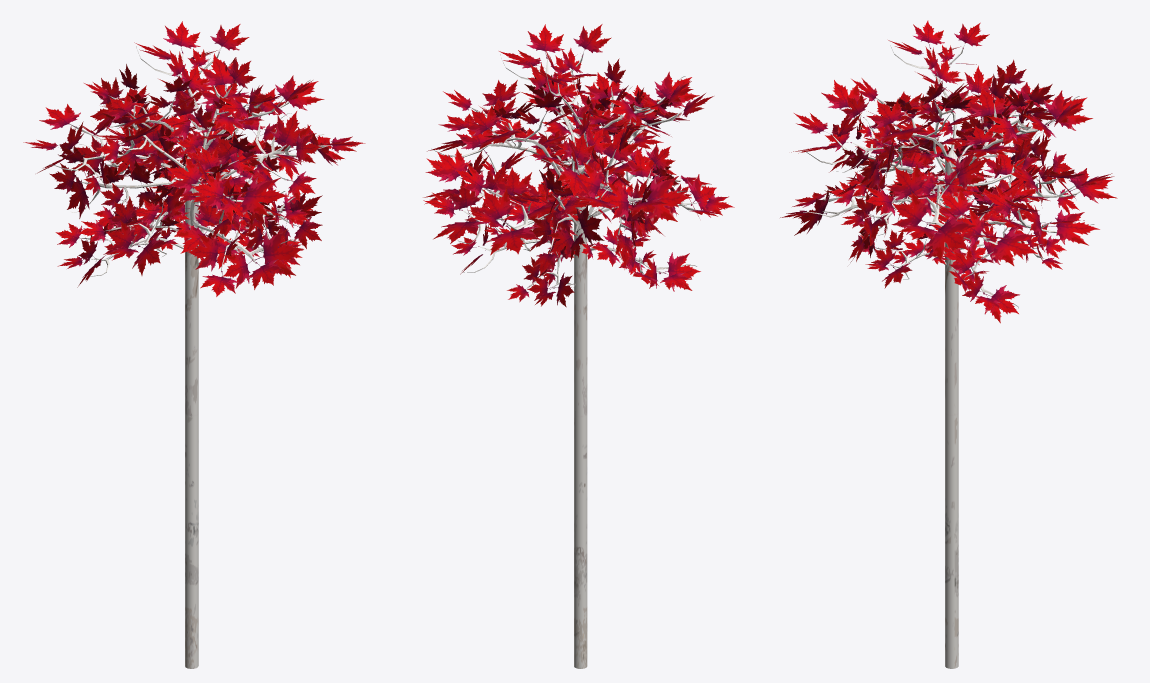
Rendered from redtree11.fbx.
3 renders of one model, left to right at view 1: azimuth 30°, elevation 25°; view 2: azimuth 150°, elevation 25°; view 3: azimuth 270°, elevation 25°, orthographic.
Parts seen in each view (by area): view 1: purpletrees:pCylinder141; view 2: purpletrees:pCylinder141; view 3: purpletrees:pCylinder141.
Boxes of the visible parts, box(x1,y1,x2,y2) form: purpletrees:pCylinder141: box(23, 21, 365, 668); purpletrees:pCylinder141: box(423, 24, 734, 668); purpletrees:pCylinder141: box(780, 20, 1117, 668).
Size of the model in its own units: 25.05 by 47.23 by 25.51.
